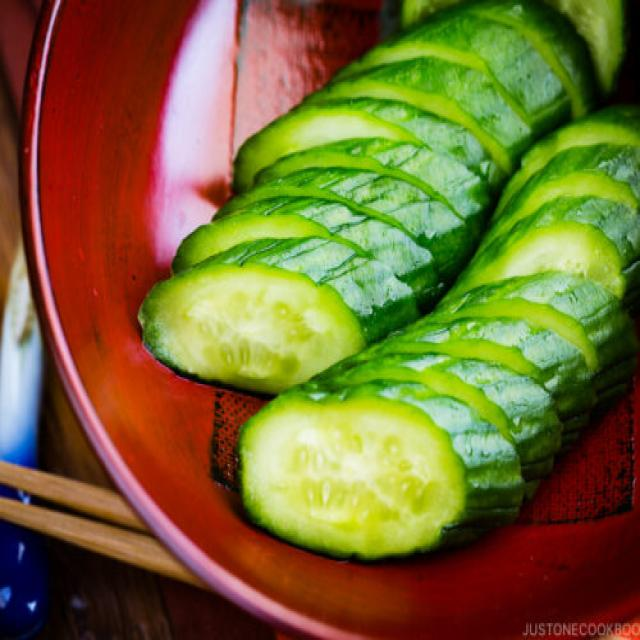Pickle: (241, 273, 636, 558), (240, 378, 524, 559), (176, 170, 442, 342), (239, 392, 464, 559), (139, 265, 364, 392), (254, 137, 488, 215), (484, 143, 640, 244), (232, 107, 418, 191), (458, 222, 625, 296), (356, 367, 512, 441), (519, 197, 640, 267)
